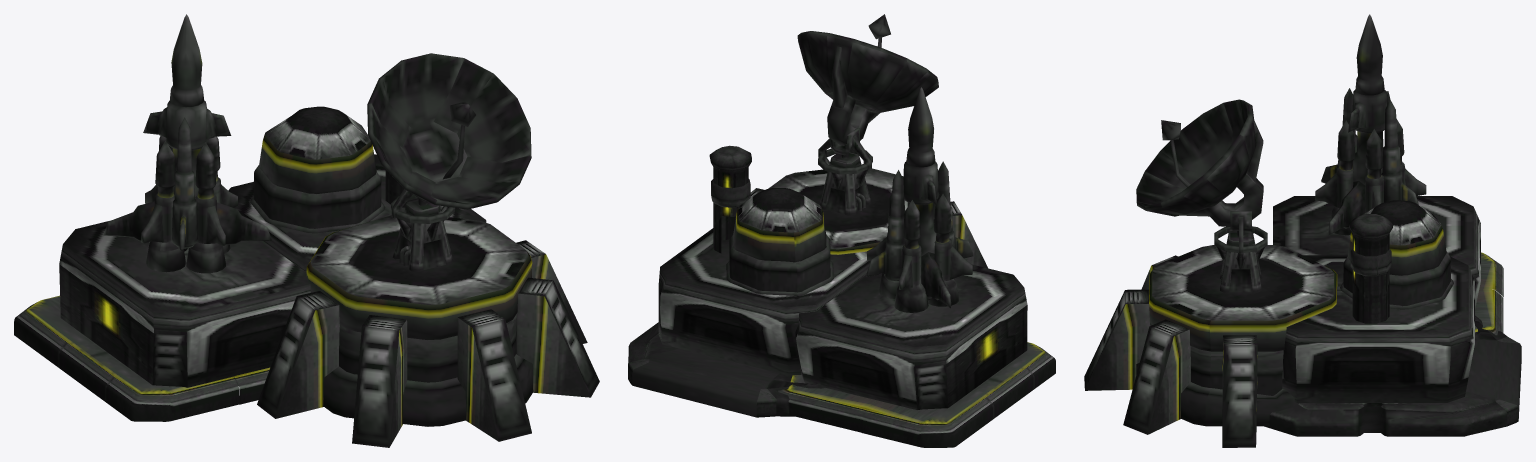
Rendered from Viper_Operationscenter_V1.glb.
3 renders of one model, left to right at view 1: azimuth 30°, elevation 25°; view 2: azimuth 150°, elevation 25°; view 3: azimuth 270°, elevation 25°, orthographic. The views are drawn at different scales.
Parts seen in each view (by area): view 1: Bldg_Terran_ShadowOps_Main; view 2: Bldg_Terran_ShadowOps_Main; view 3: Bldg_Terran_ShadowOps_Main.
Boxes of the visible parts, bbox=[...] form: Bldg_Terran_ShadowOps_Main: bbox=[14, 14, 599, 447]; Bldg_Terran_ShadowOps_Main: bbox=[628, 14, 1055, 447]; Bldg_Terran_ShadowOps_Main: bbox=[1084, 14, 1521, 447].
Bounding box in the file's own units: 4.86 × 3.81 × 5.
1 material, 1 textured.
